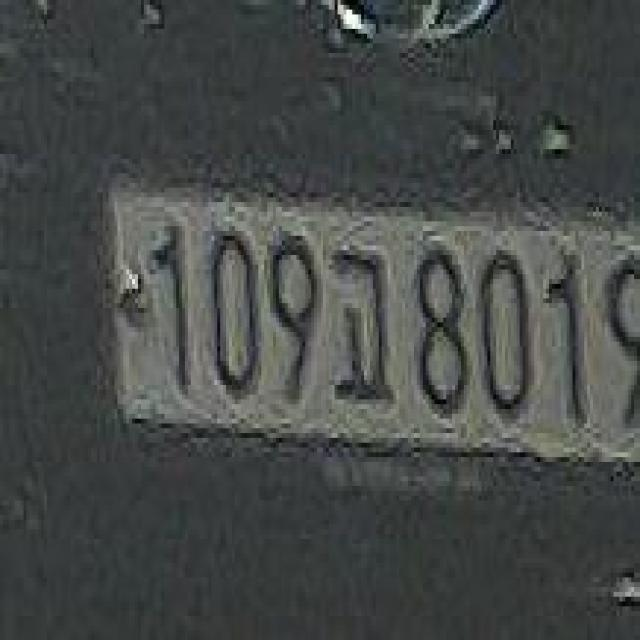illegal_plate: (110, 163, 637, 495)
